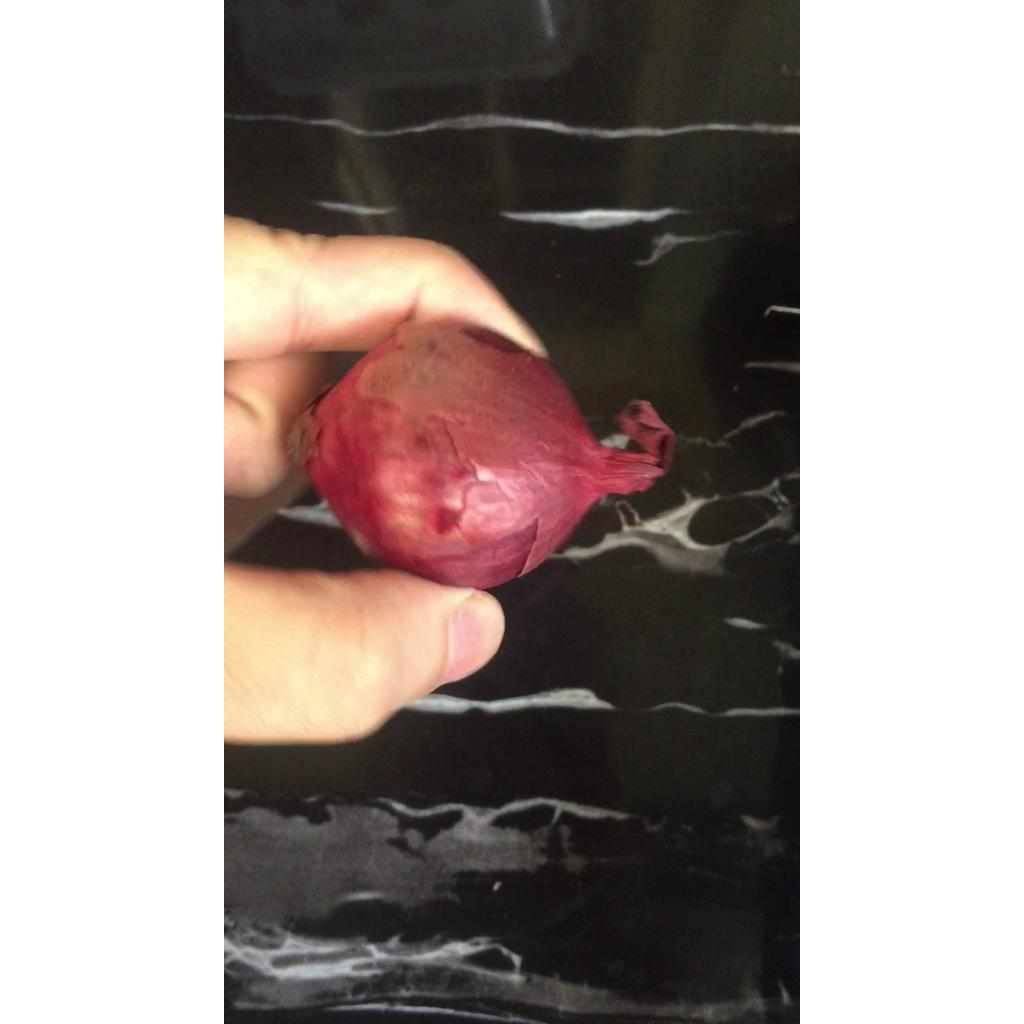Onion: (297, 322, 675, 589)
